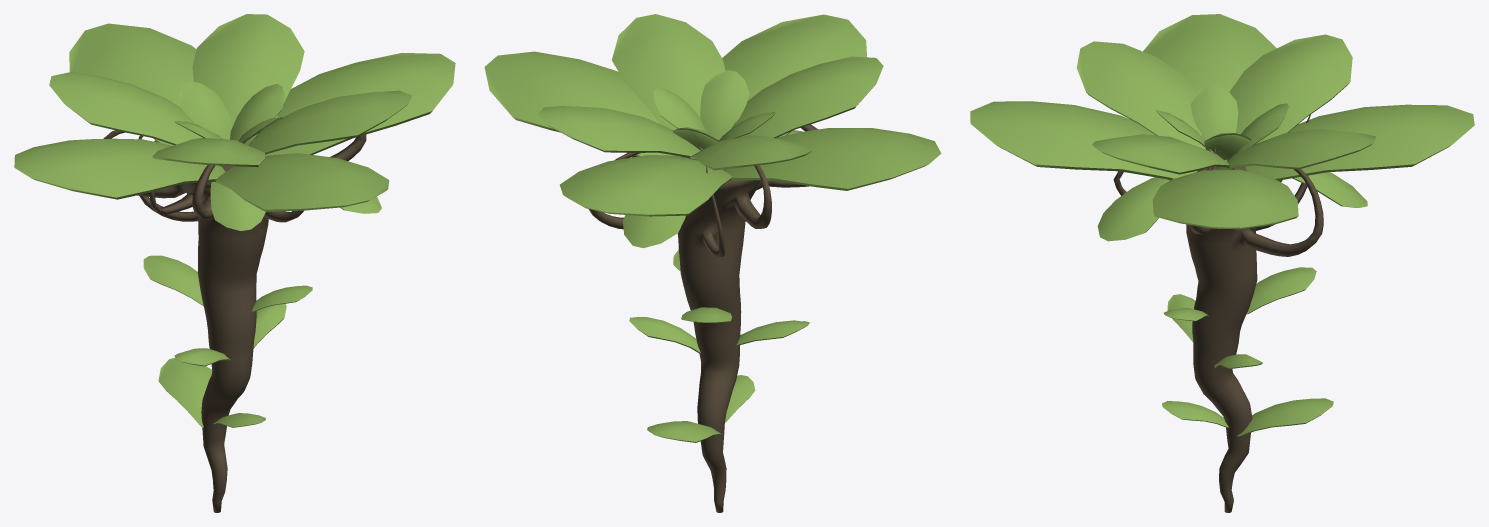
File: Plant02.fbx
The picture shows the model from 3 angles, left to right: view 1: azimuth 30°, elevation 25°; view 2: azimuth 150°, elevation 25°; view 3: azimuth 270°, elevation 25°; orthographic projection.
Visible parts, largest first — view 1: Plant02_LOD0; view 2: Plant02_LOD0; view 3: Plant02_LOD0.
Boxes of the visible parts, x1,y1,x2,y2 form: Plant02_LOD0: (14, 14, 455, 512); Plant02_LOD0: (484, 14, 941, 512); Plant02_LOD0: (970, 14, 1474, 512).
Size of what is drawn, in the model's own units: 47.27 by 43.66 by 47.24.
